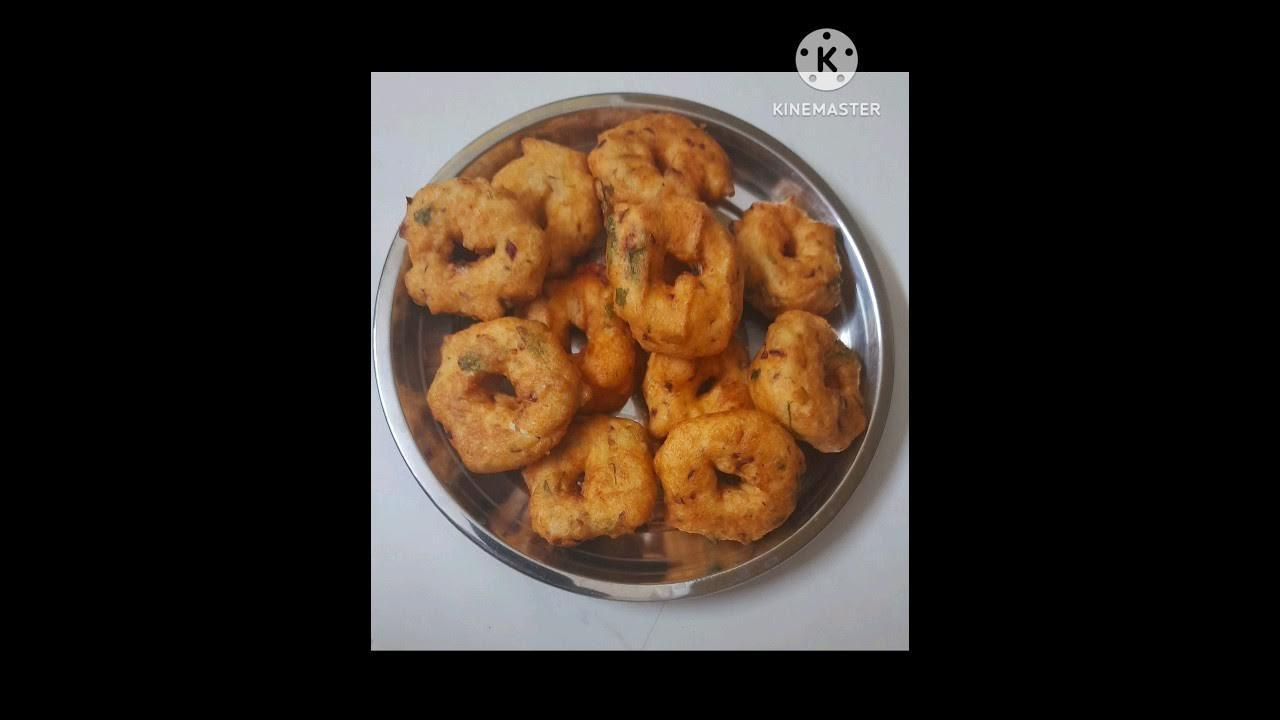mvada: (466, 171, 790, 502)
